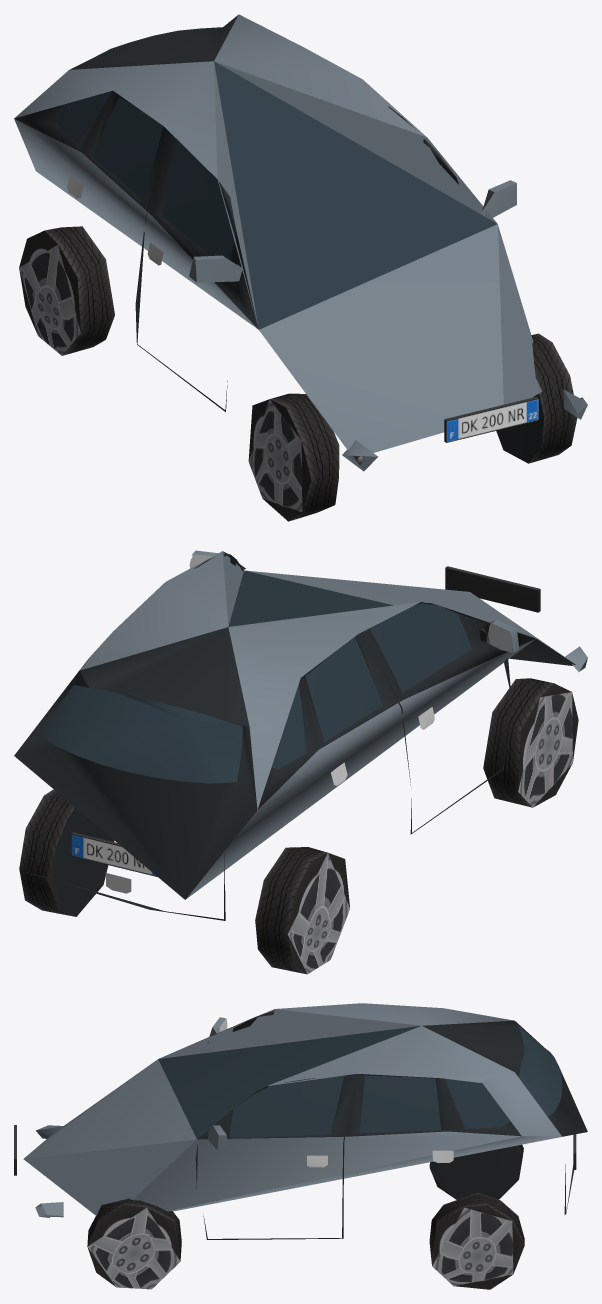
The model's file is suv_far.glb.
The picture shows the model from 3 angles, top to bottom: view 1: azimuth 30°, elevation 25°; view 2: azimuth 150°, elevation 25°; view 3: azimuth 270°, elevation 25°; orthographic projection. The views are drawn at different scales.
Visible parts, largest first — view 1: paint-Body-body, glass-FrontGlass-body, glass-Glass-body, rubber-BlackRubber-body, rubber-Tires-(False, True), rubber-Tires-(False, False), alloy-Rim-(False, False), alloy-Rim-(False, True), rubber-Tires-(True, False), trim-LicensePlate-body, rubber-BackWheels-(True, False); view 2: paint-Body-body, rubber-BlackRubber-body, glass-Glass-body, rubber-Tires-(False, False), rubber-Tires-(False, True), glass-FrontGlass-body, alloy-Rim-(False, False), rubber-Tires-(True, True), alloy-Rim-(False, True), trim-LicensePlate-body, rubber-BackWheels-(True, True), rubber-Lines-body (+3 smaller); view 3: paint-Body-body, glass-Glass-body, glass-FrontGlass-body, rubber-BlackRubber-body, alloy-Rim-(True, True), alloy-Rim-(True, False), rubber-BackWheels-(False, True), rubber-Tires-(True, True), rubber-Tires-(True, False), rubber-Lines-body, trim-Handle-body.
Part boxes in pixels (x1,y1,x2,y2): paint-Body-body: (14,14,587,471); glass-FrontGlass-body: (214,61,497,329); glass-Glass-body: (55,43,236,260); rubber-BlackRubber-body: (14,15,458,329); rubber-Tires-(False, True): (19,226,114,355); rubber-Tires-(False, False): (248,393,339,521); alloy-Rim-(False, False): (248,399,302,511); alloy-Rim-(False, True): (19,245,80,355); rubber-Tires-(True, False): (496,333,577,463); trim-LicensePlate-body: (444,396,538,442); rubber-BackWheels-(True, False): (497,394,543,463); paint-Body-body: (57,550,587,899); rubber-BlackRubber-body: (14,551,535,899); glass-Glass-body: (42,603,471,783); rubber-Tires-(False, False): (483,678,578,807); rubber-Tires-(False, True): (255,847,349,974); glass-FrontGlass-body: (228,570,393,626); alloy-Rim-(False, False): (518,692,572,807); rubber-Tires-(True, True): (19,789,75,916); alloy-Rim-(False, True): (288,853,349,974); trim-LicensePlate-body: (71,566,540,876); rubber-BackWheels-(True, True): (55,807,114,916); rubber-Lines-body: (26,630,511,920); paint-Body-body: (23,1003,571,1218); glass-Glass-body: (229,1024,562,1138); glass-FrontGlass-body: (158,1026,420,1138); rubber-BlackRubber-body: (191,1011,587,1139); alloy-Rim-(True, True): (432,1207,513,1285); alloy-Rim-(True, False): (87,1207,180,1289); rubber-BackWheels-(False, True): (429,1145,522,1199); rubber-Tires-(True, True): (429,1192,524,1289); rubber-Tires-(True, False): (87,1198,181,1286); rubber-Lines-body: (195,1075,574,1239); trim-Handle-body: (307,1150,453,1167).
Size of the model in its own units: 2.08 by 1.75 by 4.27.
14 materials, 4 textured.
